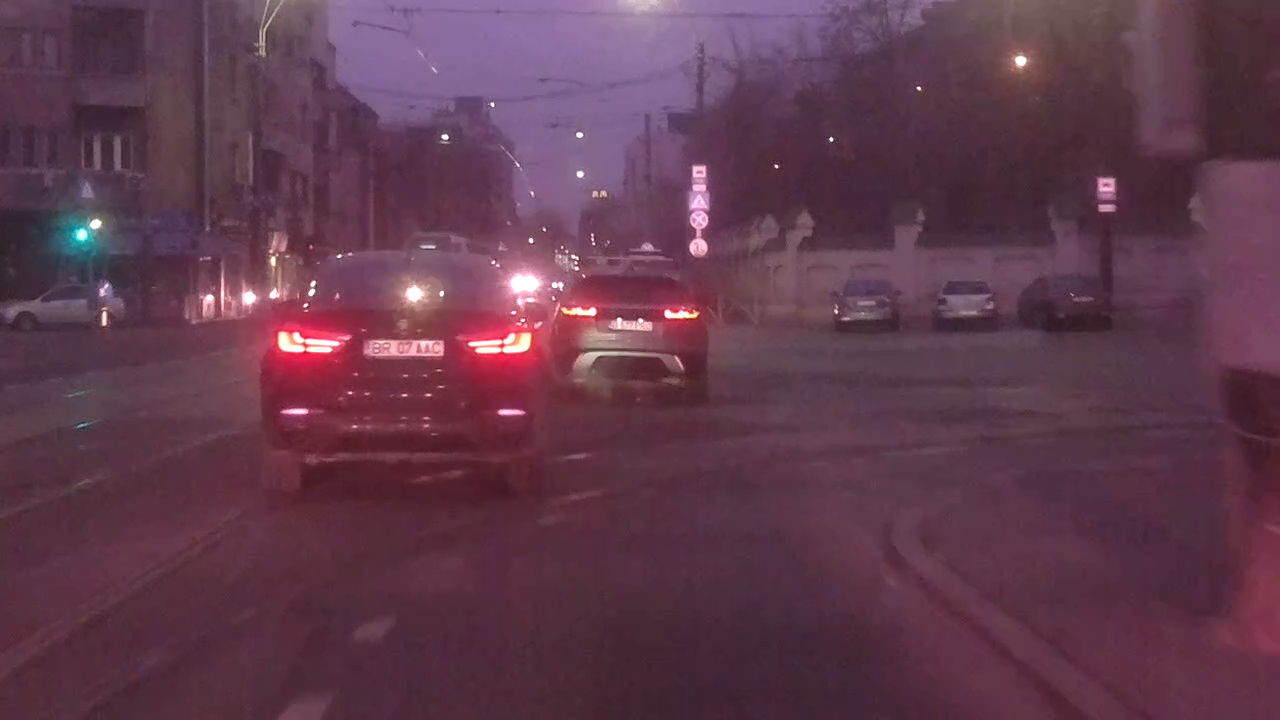license-plate: (362, 336, 447, 358)
